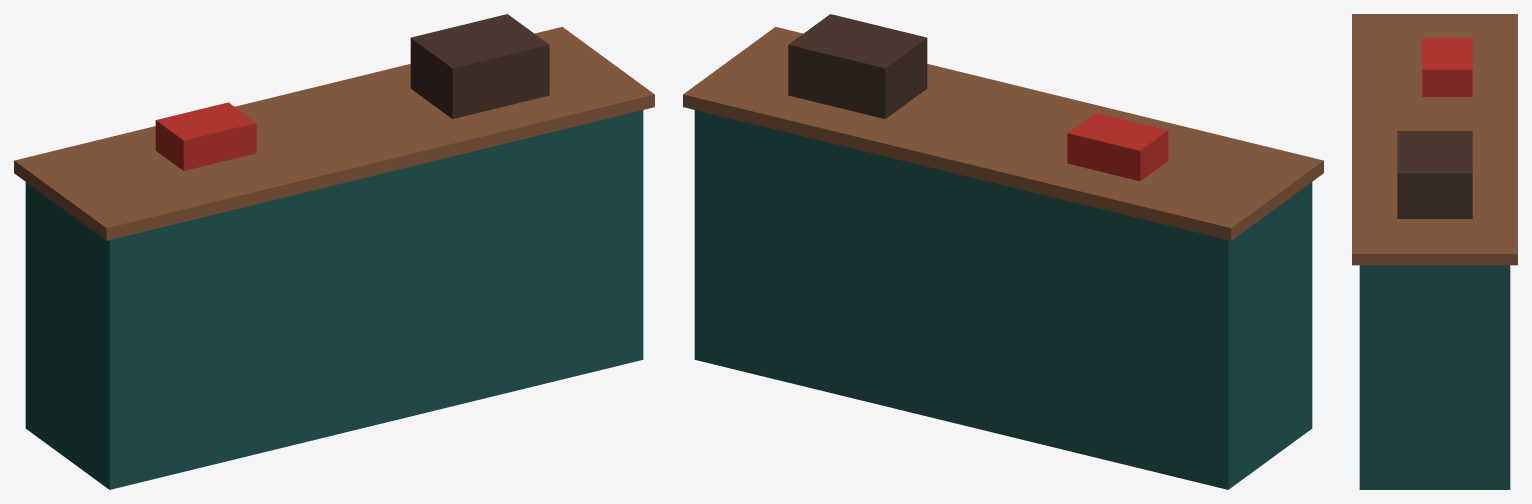
File: bike_counter.glb
3 renders of one model, left to right at view 1: azimuth 30°, elevation 25°; view 2: azimuth 150°, elevation 25°; view 3: azimuth 270°, elevation 25°, orthographic. The views are drawn at different scales.
Parts seen in each view (by area): view 1: Box1, Box2, Box3, Box4; view 2: Box1, Box2, Box3, Box4; view 3: Box1, Box2, Box3, Box4.
Boxes of the visible parts, x1,y1,x2,y2 form: Box1: (25,110,643,489); Box2: (14,27,654,240); Box3: (410,14,549,118); Box4: (155,102,256,170); Box1: (694,110,1312,489); Box2: (683,27,1323,240); Box3: (788,14,927,118); Box4: (1067,112,1168,181); Box1: (1359,265,1510,489); Box2: (1352,14,1517,265); Box3: (1397,131,1472,218); Box4: (1422,37,1472,96).
Size of the model in its own units: 2.26 by 1.25 by 0.66.
